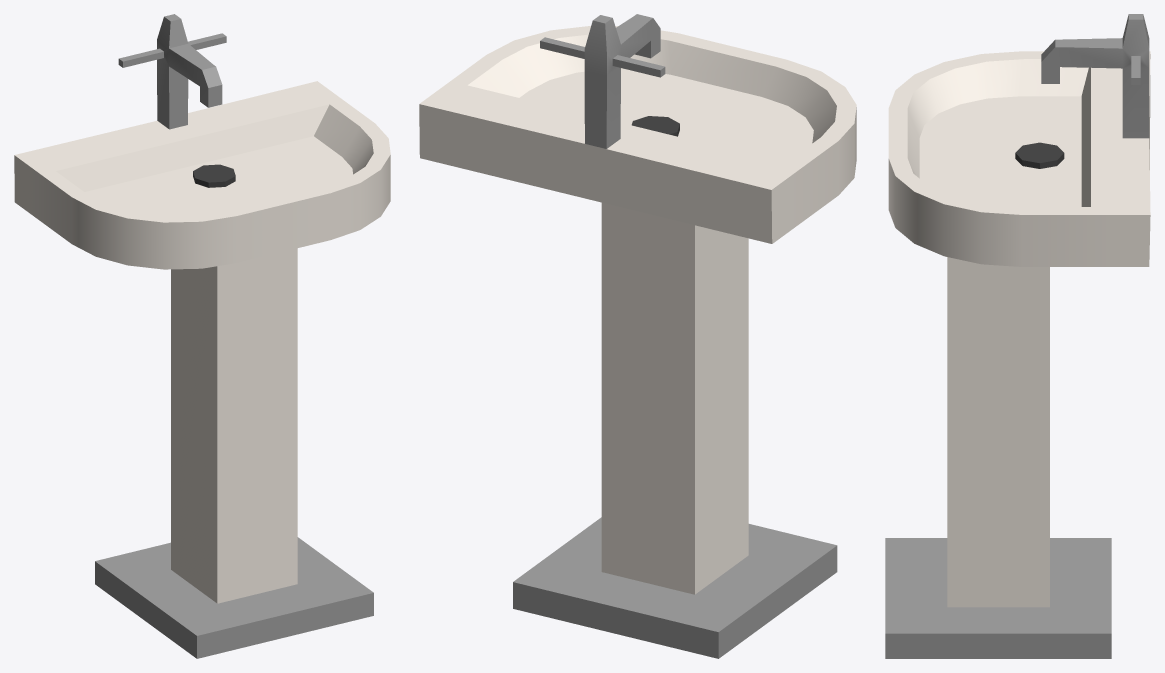
File: Sink.fbx
3 renders of one model, left to right at view 1: azimuth 30°, elevation 25°; view 2: azimuth 150°, elevation 25°; view 3: azimuth 270°, elevation 25°, orthographic. The views are drawn at different scales.
Parts seen in each view (by area): view 1: Sink; view 2: Sink; view 3: Sink.
Part boxes in pixels (x1,y1,x2,y2): Sink: [14, 14, 390, 658]; Sink: [419, 14, 856, 658]; Sink: [885, 14, 1150, 658].
Bounding box in the file's own units: 193 × 327 × 132.
